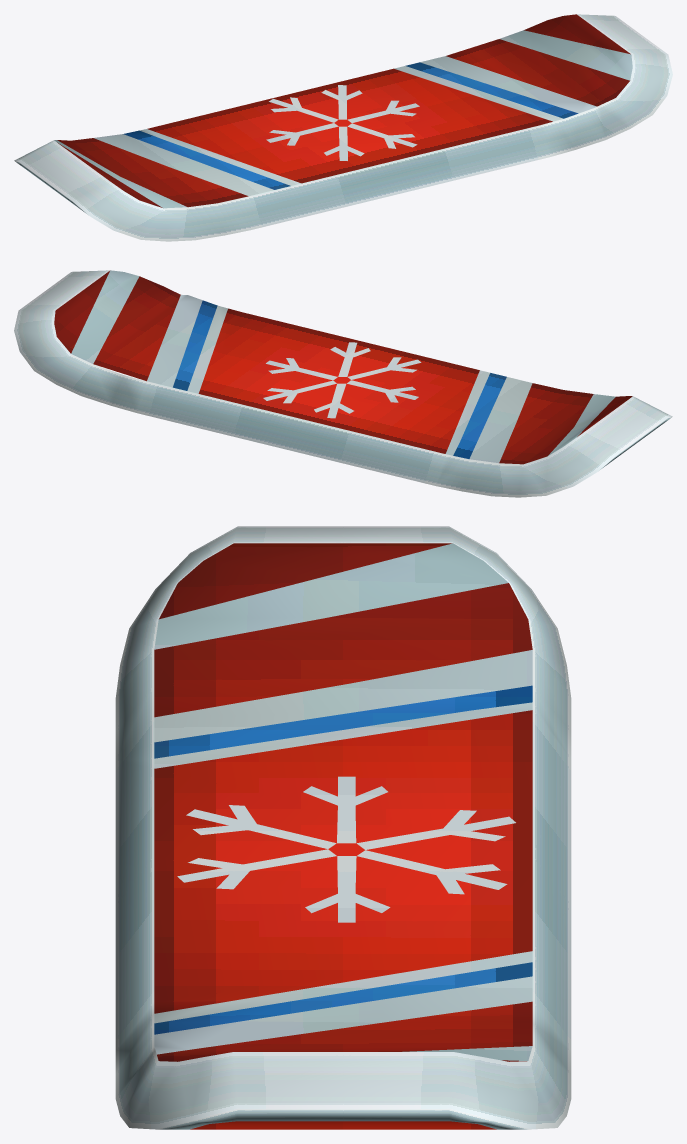
The model's file is Snowflake.glb.
3 renders of one model, top to bottom at view 1: azimuth 30°, elevation 25°; view 2: azimuth 150°, elevation 25°; view 3: azimuth 270°, elevation 25°, orthographic. The views are drawn at different scales.
Parts seen in each view (by area): view 1: Snowflake; view 2: Snowflake; view 3: Snowflake.
Part boxes in pixels (x1,y1,x2,y2): Snowflake: (14,14,672,241); Snowflake: (14,270,672,497); Snowflake: (115,526,571,1129).
Bounding box in the file's own units: 8.35 × 0.7226 × 2.76.
Materials: 1 (1 with a texture image).
